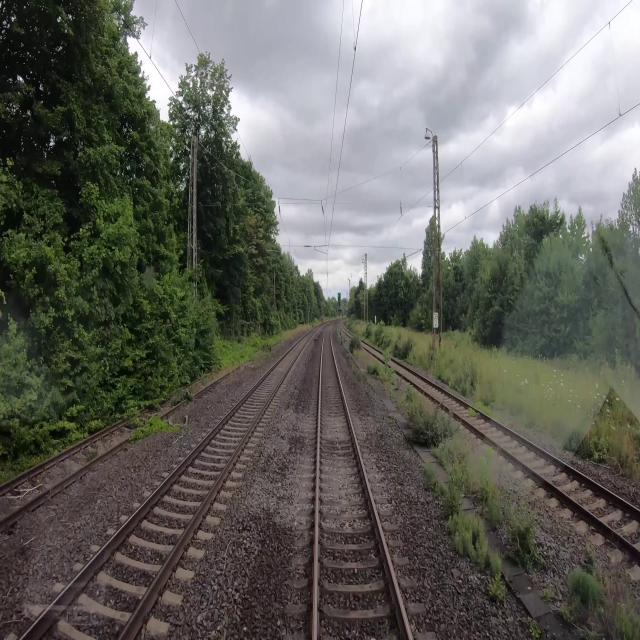Plant: (363, 352, 553, 581), (416, 459, 514, 604), (197, 314, 333, 393), (557, 543, 639, 639), (122, 400, 186, 444), (335, 327, 367, 383), (527, 620, 543, 639), (539, 585, 554, 605)
